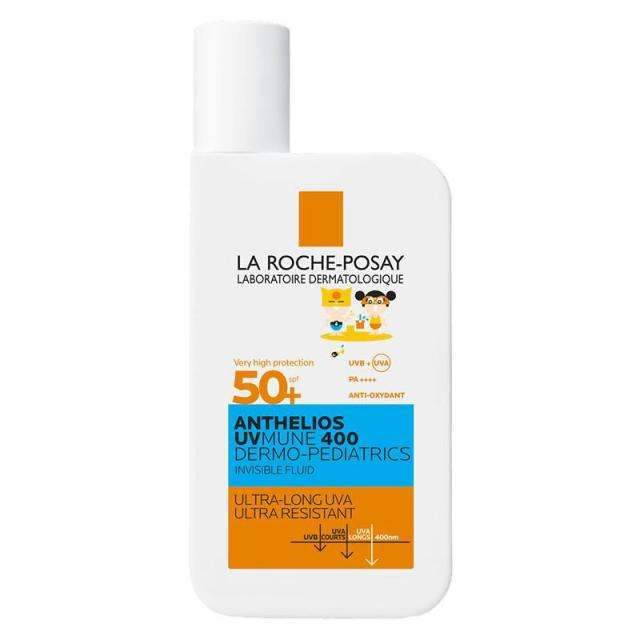cosmotic: (195, 150, 442, 584)
